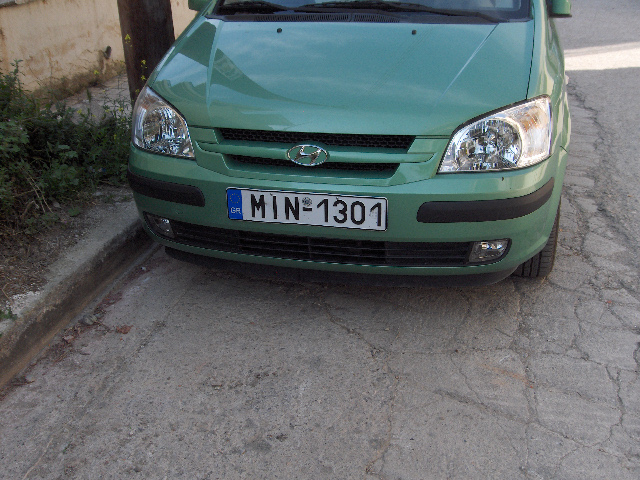licenseplate: (225, 185, 388, 231)
